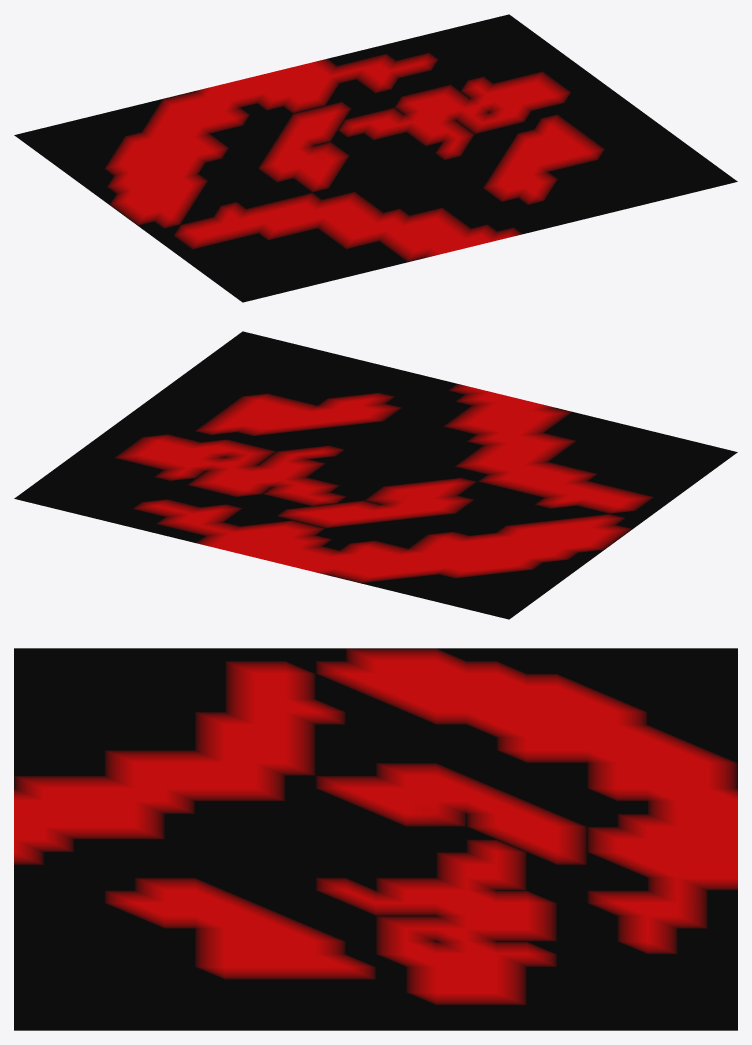
The model's file is SM_Ground.fbx.
The picture shows the model from 3 angles, top to bottom: view 1: azimuth 30°, elevation 25°; view 2: azimuth 150°, elevation 25°; view 3: azimuth 270°, elevation 25°; orthographic projection. The views are drawn at different scales.
Visible parts, largest first — view 1: Ground; view 2: Ground; view 3: Ground.
Part boxes in pixels (x1,y1,x2,y2): Ground: (14,14,737,302); Ground: (14,331,737,619); Ground: (14,648,737,1030).
Bounding box in the file's own units: 3300 × 0 × 2640.
